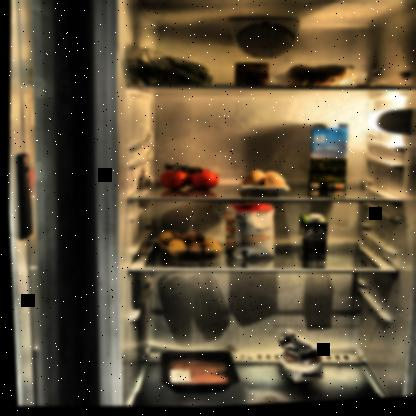chicken: (161, 353, 234, 392)
corn: (231, 61, 272, 92)
eggs: (236, 168, 292, 194)
green_beans: (124, 53, 217, 94)
heavy_cream: (293, 215, 327, 266)
milk: (305, 123, 353, 202)
potato: (153, 227, 226, 266)
tomato: (153, 164, 224, 195)
